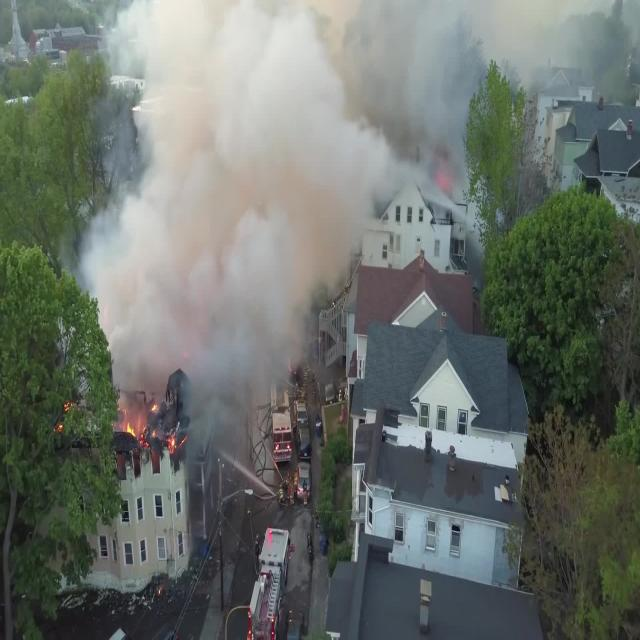Fire: (42, 389, 188, 459)
Smoke: (60, 0, 487, 443)
